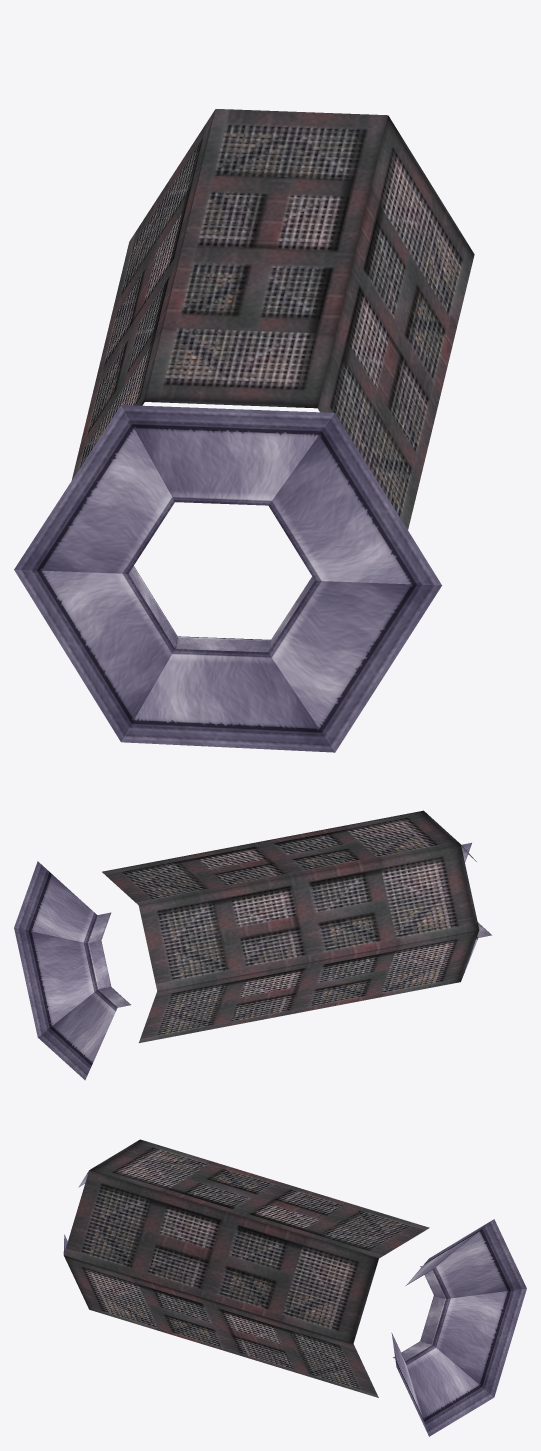
3 renders of one model, top to bottom at view 1: azimuth 30°, elevation 25°; view 2: azimuth 150°, elevation 25°; view 3: azimuth 270°, elevation 25°, orthographic. The views are drawn at different scales.
Parts seen in each view (by area): view 1: 25; view 2: 25; view 3: 25.
Part boxes in pixels (<box>): 25: <box>14,109,474,752</box>; 25: <box>14,810,491,1080</box>; 25: <box>63,1139,526,1436</box>.
Size of the model in its own units: 9182 by 4006 by 10431.
Materials: 2 (2 with a texture image).
